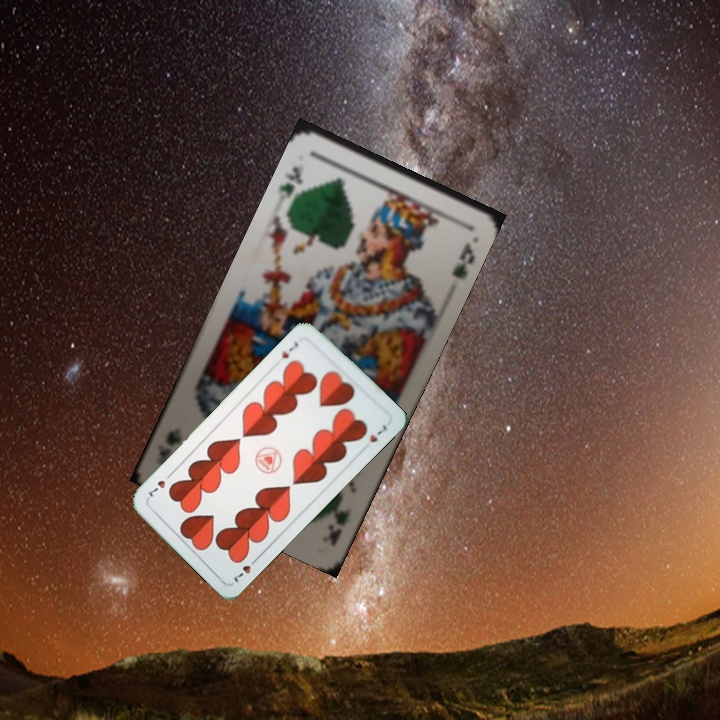GK: (319, 504, 354, 548), (273, 162, 305, 202)
H7: (230, 553, 261, 585), (278, 338, 301, 361)
